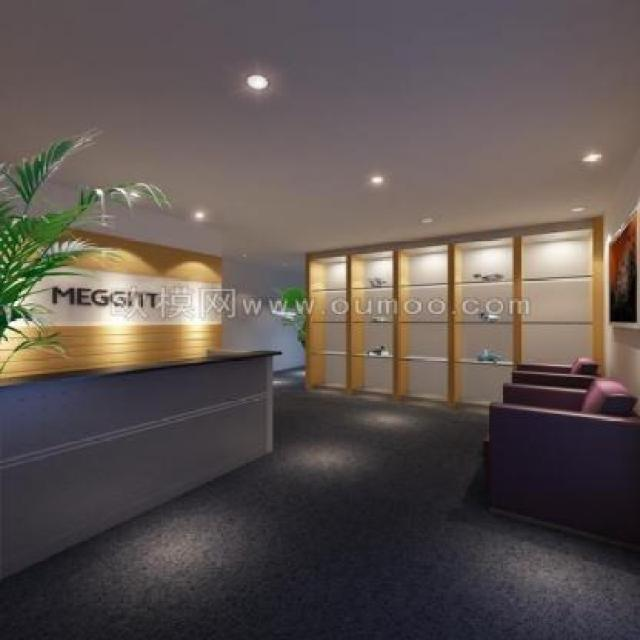frontdesk: (0, 336, 291, 582)
